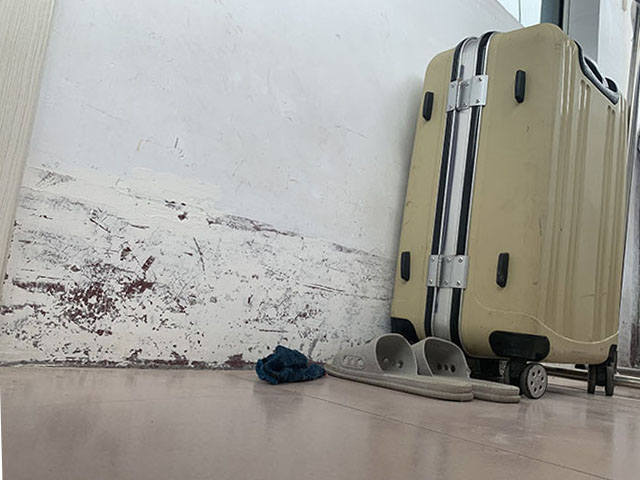slippers: (323, 331, 477, 405), (415, 336, 523, 403)
socks: (252, 343, 328, 386)
